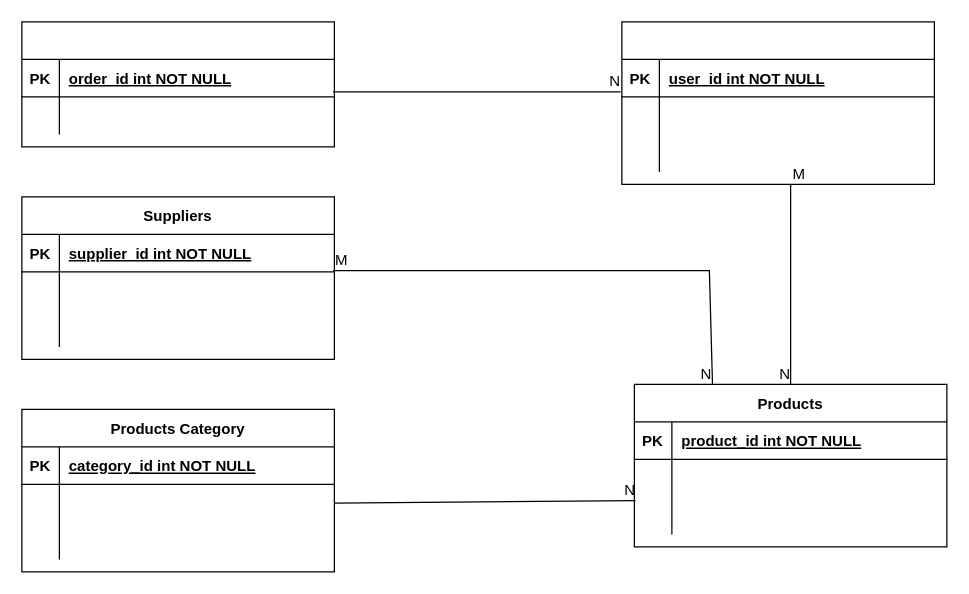
This 969x594 diagram has some shape labels left out. Here are the shapes that lost their labels. From the top down, the box of each, then its label:
(21, 21, 334, 147): Orders
(621, 21, 934, 184): Users
